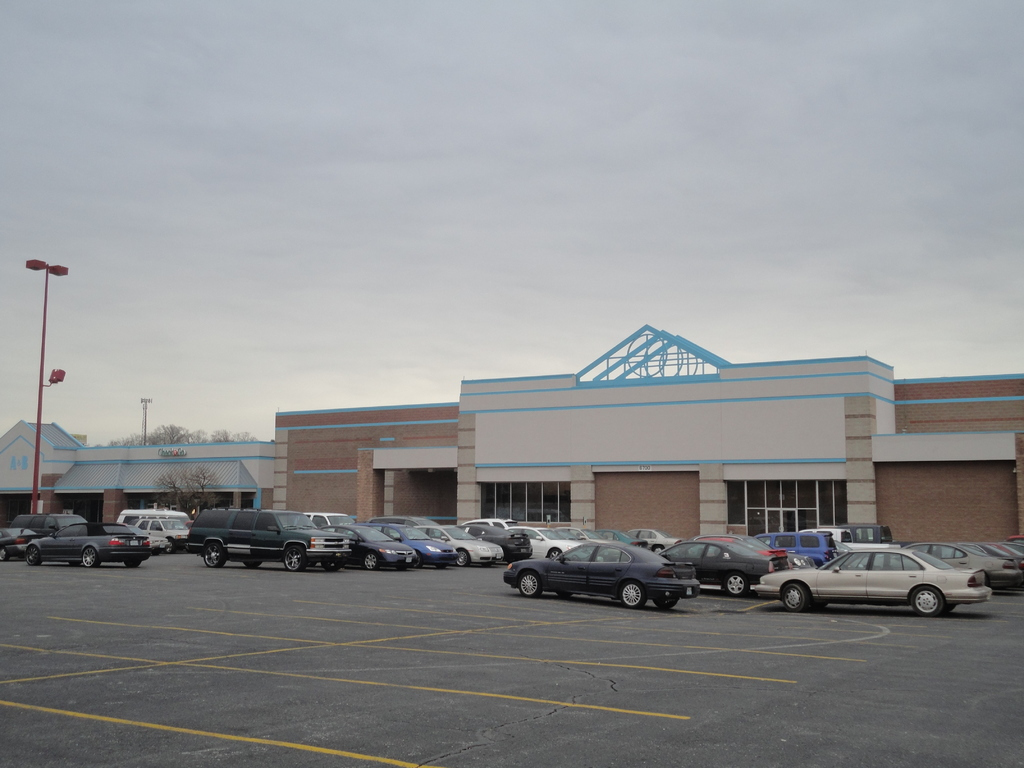Car: (761, 543, 996, 622), (499, 540, 700, 611), (186, 507, 347, 572), (658, 536, 793, 598), (22, 519, 149, 567), (901, 538, 1023, 583), (317, 524, 416, 572), (360, 517, 455, 567), (10, 511, 85, 563), (415, 523, 499, 565), (725, 536, 816, 571), (460, 522, 531, 561), (765, 528, 834, 566), (504, 526, 580, 556), (827, 522, 888, 551), (974, 538, 1023, 574), (0, 526, 43, 557), (625, 526, 674, 552), (292, 512, 355, 532), (805, 525, 850, 553), (378, 516, 435, 537), (126, 523, 168, 551), (596, 528, 636, 545), (565, 526, 602, 544), (482, 517, 522, 528), (998, 541, 1023, 558), (183, 519, 193, 529)
